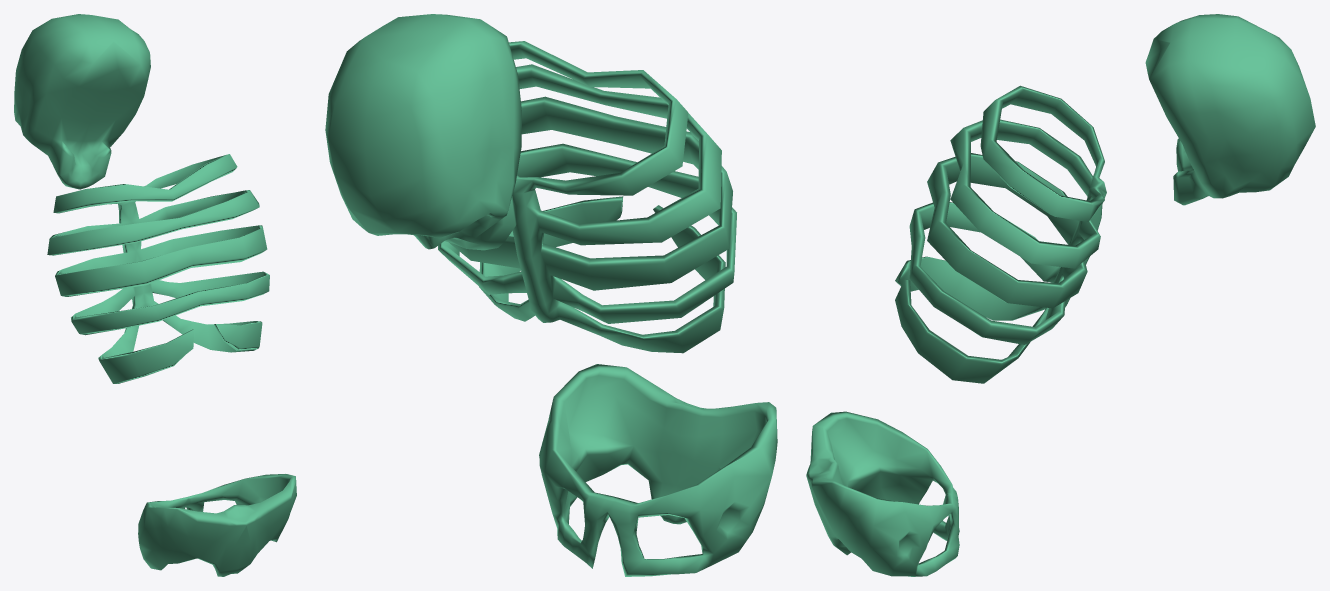
File: Skeleton_01_Lod2.fbx
The picture shows the model from 3 angles, left to right: view 1: azimuth 30°, elevation 25°; view 2: azimuth 150°, elevation 25°; view 3: azimuth 270°, elevation 25°; orthographic projection. The views are drawn at different scales.
Visible parts, largest first — view 1: Skeleton_01_Lod2; view 2: Skeleton_01_Lod2; view 3: Skeleton_01_Lod2.
Part boxes in pixels (x1,y1,x2,y2): Skeleton_01_Lod2: (14,14,296,576); Skeleton_01_Lod2: (325,14,777,576); Skeleton_01_Lod2: (806,14,1315,576).
Size of the model in its own units: 27.87 by 55.6 by 48.31.
